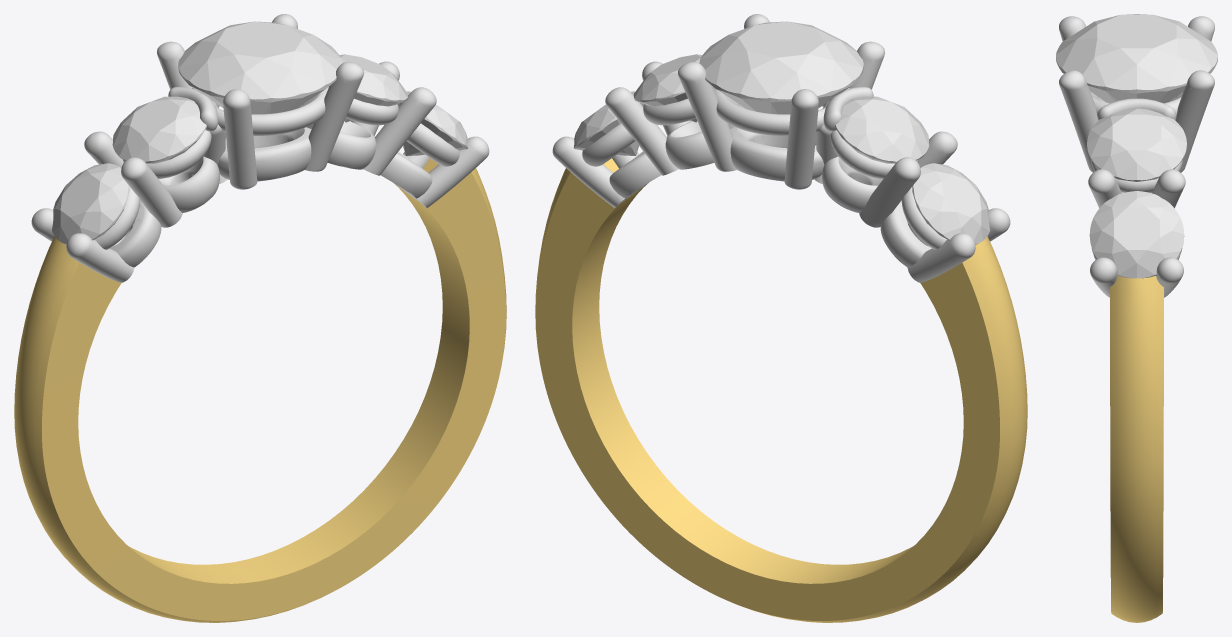
The model's file is Jeremy5stoneNew.glb.
3 views of the same model, side by side, from view 1: azimuth 30°, elevation 25°; view 2: azimuth 150°, elevation 25°; view 3: azimuth 270°, elevation 25° (orthographic).
Visible parts, largest first — view 1: Jeremy 5 stone YG for 3d model, Jeremy 5 stone dia for 3d model, Jeremy 5 stone dia for 3d model.004, Jeremy 5 stone dia for 3d model.003, Jeremy 5 stone PT for 3d model.004, Jeremy 5 stone PT for 3d model, Jeremy 5 stone PT for 3d model.003, Jeremy 5 stone PT for 3d model.022, Jeremy 5 stone PT for 3d model.008, Jeremy 5 stone PT for 3d model.007, Jeremy 5 stone PT for 3d model.001, Jeremy 5 stone PT for 3d model.014 (+13 smaller); view 2: Jeremy 5 stone YG for 3d model, Jeremy 5 stone dia for 3d model, Jeremy 5 stone dia for 3d model.004, Jeremy 5 stone dia for 3d model.003, Jeremy 5 stone PT for 3d model.005, Jeremy 5 stone PT for 3d model, Jeremy 5 stone PT for 3d model.002, Jeremy 5 stone PT for 3d model.021, Jeremy 5 stone PT for 3d model.024, Jeremy 5 stone PT for 3d model.007, Jeremy 5 stone PT for 3d model.001, Jeremy 5 stone PT for 3d model.013 (+13 smaller); view 3: Jeremy 5 stone YG for 3d model, Jeremy 5 stone dia for 3d model, Jeremy 5 stone dia for 3d model.001, Jeremy 5 stone dia for 3d model.002, Jeremy 5 stone PT for 3d model.005, Jeremy 5 stone PT for 3d model.004, Jeremy 5 stone PT for 3d model.020, Jeremy 5 stone PT for 3d model.021, Jeremy 5 stone PT for 3d model.022, Jeremy 5 stone PT for 3d model.013, Jeremy 5 stone PT for 3d model.014, Jeremy 5 stone PT for 3d model.026 (+3 smaller).
Part boxes in pixels (left/top/right/bottom): Jeremy 5 stone YG for 3d model: left=14, top=158, right=506, bottom=622; Jeremy 5 stone dia for 3d model: left=178, top=21, right=342, bottom=114; Jeremy 5 stone dia for 3d model.004: left=112, top=96, right=206, bottom=163; Jeremy 5 stone dia for 3d model.003: left=52, top=163, right=129, bottom=244; Jeremy 5 stone PT for 3d model.004: left=305, top=61, right=363, bottom=171; Jeremy 5 stone PT for 3d model: left=217, top=127, right=311, bottom=181; Jeremy 5 stone PT for 3d model.003: left=223, top=89, right=257, bottom=189; Jeremy 5 stone PT for 3d model.022: left=363, top=87, right=436, bottom=175; Jeremy 5 stone PT for 3d model.008: left=121, top=157, right=182, bottom=227; Jeremy 5 stone PT for 3d model.007: left=159, top=156, right=219, bottom=212; Jeremy 5 stone PT for 3d model.001: left=192, top=87, right=328, bottom=135; Jeremy 5 stone PT for 3d model.014: left=406, top=136, right=489, bottom=208; Jeremy 5 stone YG for 3d model: left=535, top=158, right=1027, bottom=622; Jeremy 5 stone dia for 3d model: left=699, top=21, right=863, bottom=114; Jeremy 5 stone dia for 3d model.004: left=835, top=96, right=929, bottom=163; Jeremy 5 stone dia for 3d model.003: left=912, top=163, right=989, bottom=244; Jeremy 5 stone PT for 3d model.005: left=678, top=61, right=736, bottom=171; Jeremy 5 stone PT for 3d model: left=730, top=127, right=824, bottom=181; Jeremy 5 stone PT for 3d model.002: left=784, top=89, right=818, bottom=189; Jeremy 5 stone PT for 3d model.021: left=605, top=87, right=678, bottom=175; Jeremy 5 stone PT for 3d model.024: left=859, top=157, right=920, bottom=227; Jeremy 5 stone PT for 3d model.007: left=822, top=156, right=882, bottom=212; Jeremy 5 stone PT for 3d model.001: left=713, top=87, right=849, bottom=135; Jeremy 5 stone PT for 3d model.013: left=552, top=136, right=635, bottom=208; Jeremy 5 stone YG for 3d model: left=1110, top=275, right=1163, bottom=622; Jeremy 5 stone dia for 3d model: left=1056, top=14, right=1217, bottom=103; Jeremy 5 stone dia for 3d model.001: left=1089, top=191, right=1184, bottom=278; Jeremy 5 stone dia for 3d model.002: left=1087, top=108, right=1186, bottom=181; Jeremy 5 stone PT for 3d model.005: left=1175, top=70, right=1214, bottom=172; Jeremy 5 stone PT for 3d model.004: left=1059, top=70, right=1098, bottom=172; Jeremy 5 stone PT for 3d model.020: left=1097, top=98, right=1176, bottom=120; Jeremy 5 stone PT for 3d model.021: left=1152, top=169, right=1185, bottom=208; Jeremy 5 stone PT for 3d model.022: left=1088, top=169, right=1121, bottom=208; Jeremy 5 stone PT for 3d model.013: left=1156, top=257, right=1183, bottom=297; Jeremy 5 stone PT for 3d model.014: left=1090, top=257, right=1117, bottom=297; Jeremy 5 stone PT for 3d model.026: left=1091, top=160, right=1182, bottom=192.
Size of the model in its own units: 20.3 by 23.11 by 6.
